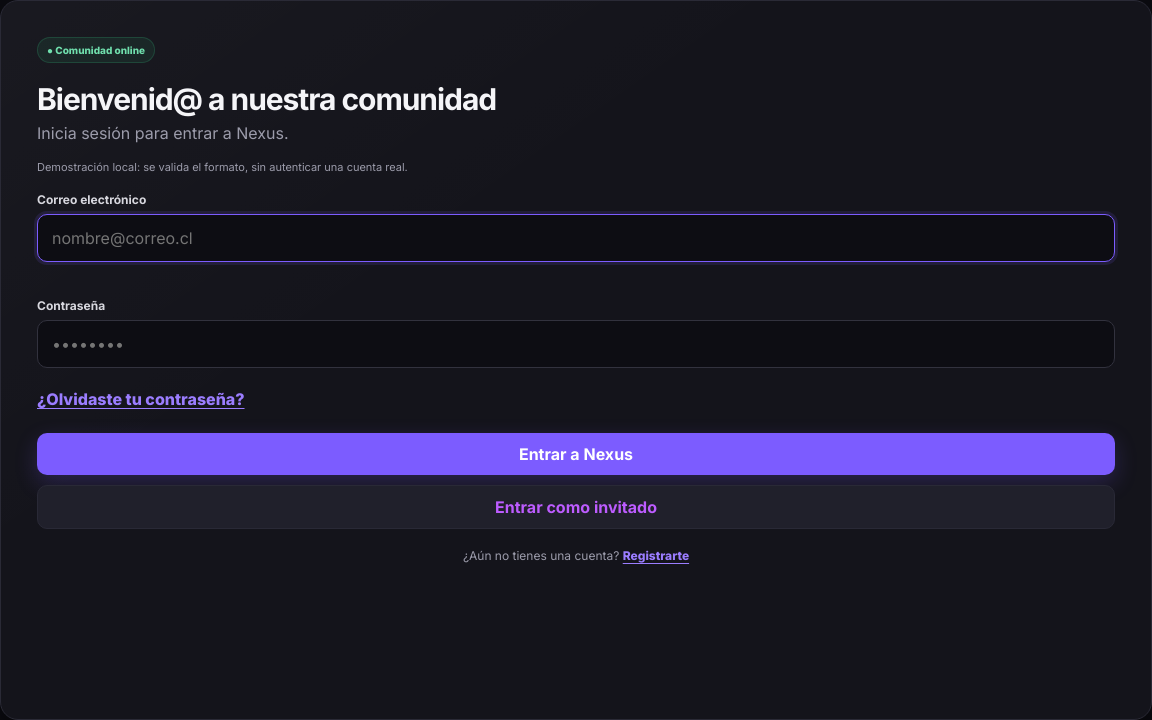
Scenario: Componente LoginForm › impide iniciar sesión con los campos vacíos
This screenshot has width=1152, height=720.
What coordinates should you click on to do the following:
click the button "Entrar a Nexus"
I would click on:
 (576, 454)
Its box is x1=37 y1=433 x2=1115 y2=475.
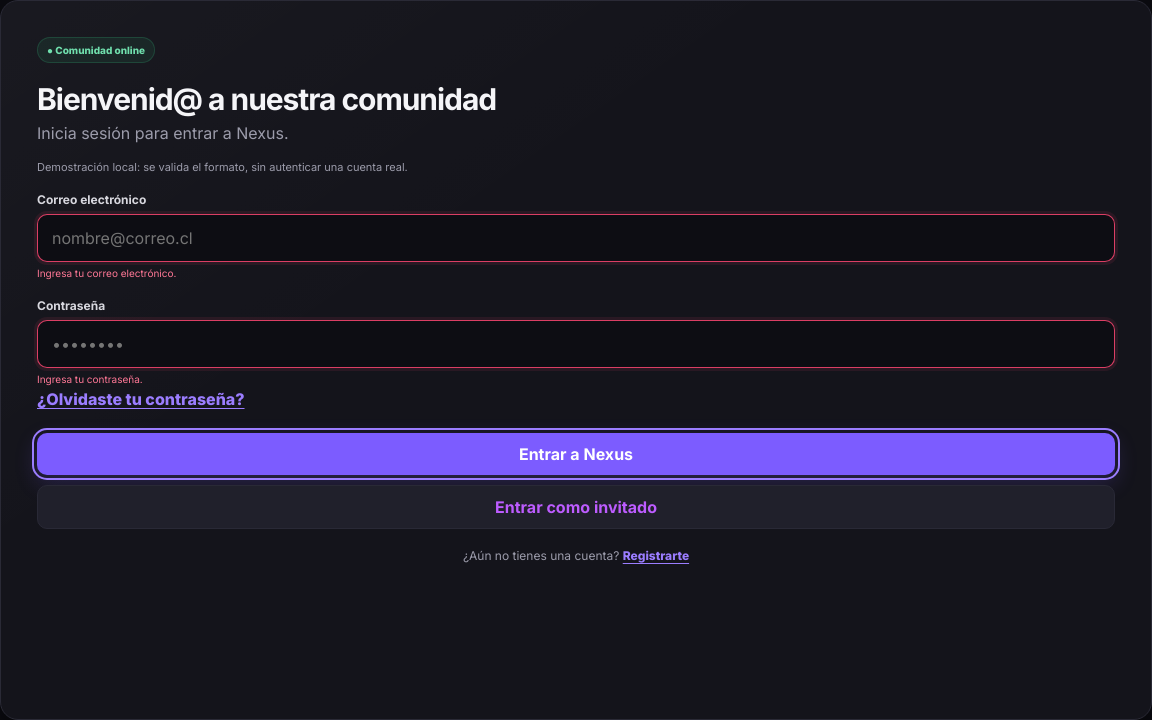
Result: the text "Ingresa tu correo electrónico." is shown at x1=37 y1=267 x2=176 y2=279
